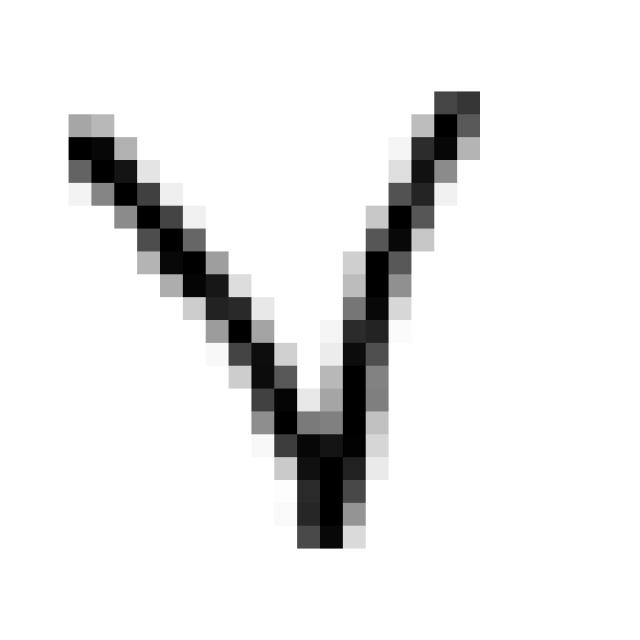7 -seven-: (48, 69, 499, 573)
